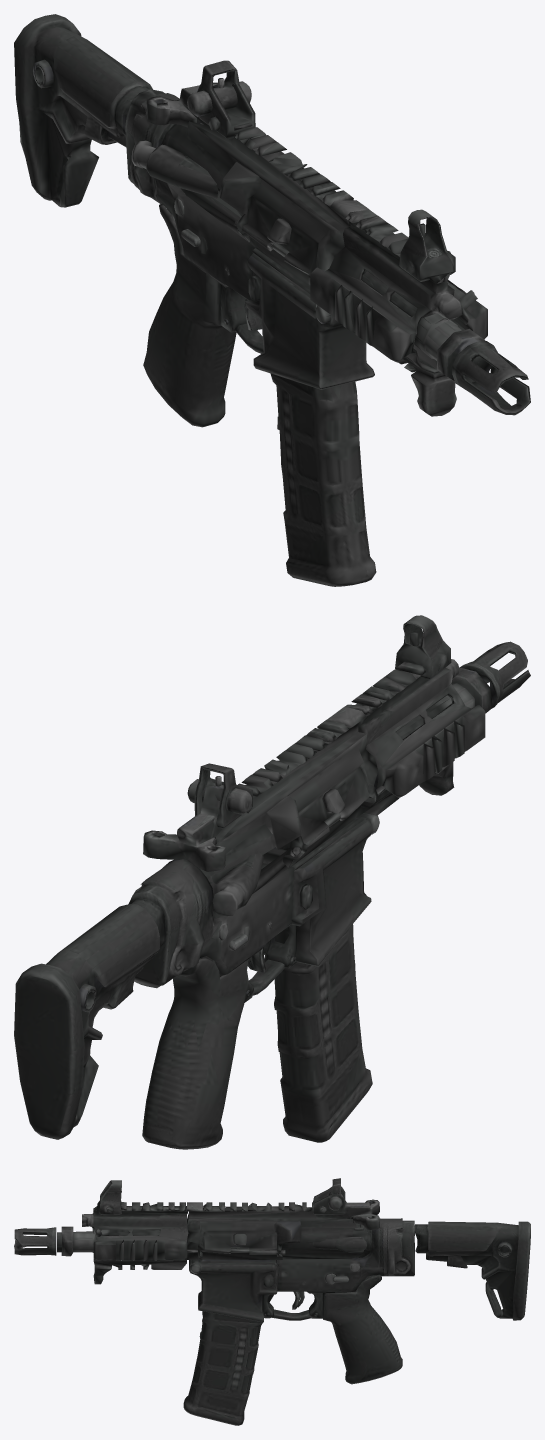
Rendered from machine_pistol.glb.
The picture shows the model from 3 angles, top to bottom: view 1: azimuth 30°, elevation 25°; view 2: azimuth 150°, elevation 25°; view 3: azimuth 270°, elevation 25°; orthographic projection. The views are drawn at different scales.
Visible parts, largest first — view 1: w_machine_pistol; view 2: w_machine_pistol; view 3: w_machine_pistol.
Boxes of the visible parts, x1,y1,x2,y2 form: w_machine_pistol: [14, 14, 530, 586]; w_machine_pistol: [14, 615, 530, 1149]; w_machine_pistol: [14, 1178, 530, 1425].
Bounding box in the file's own units: 0.0495 × 0.206 × 0.4.
Materials: 1 (1 with a texture image).
